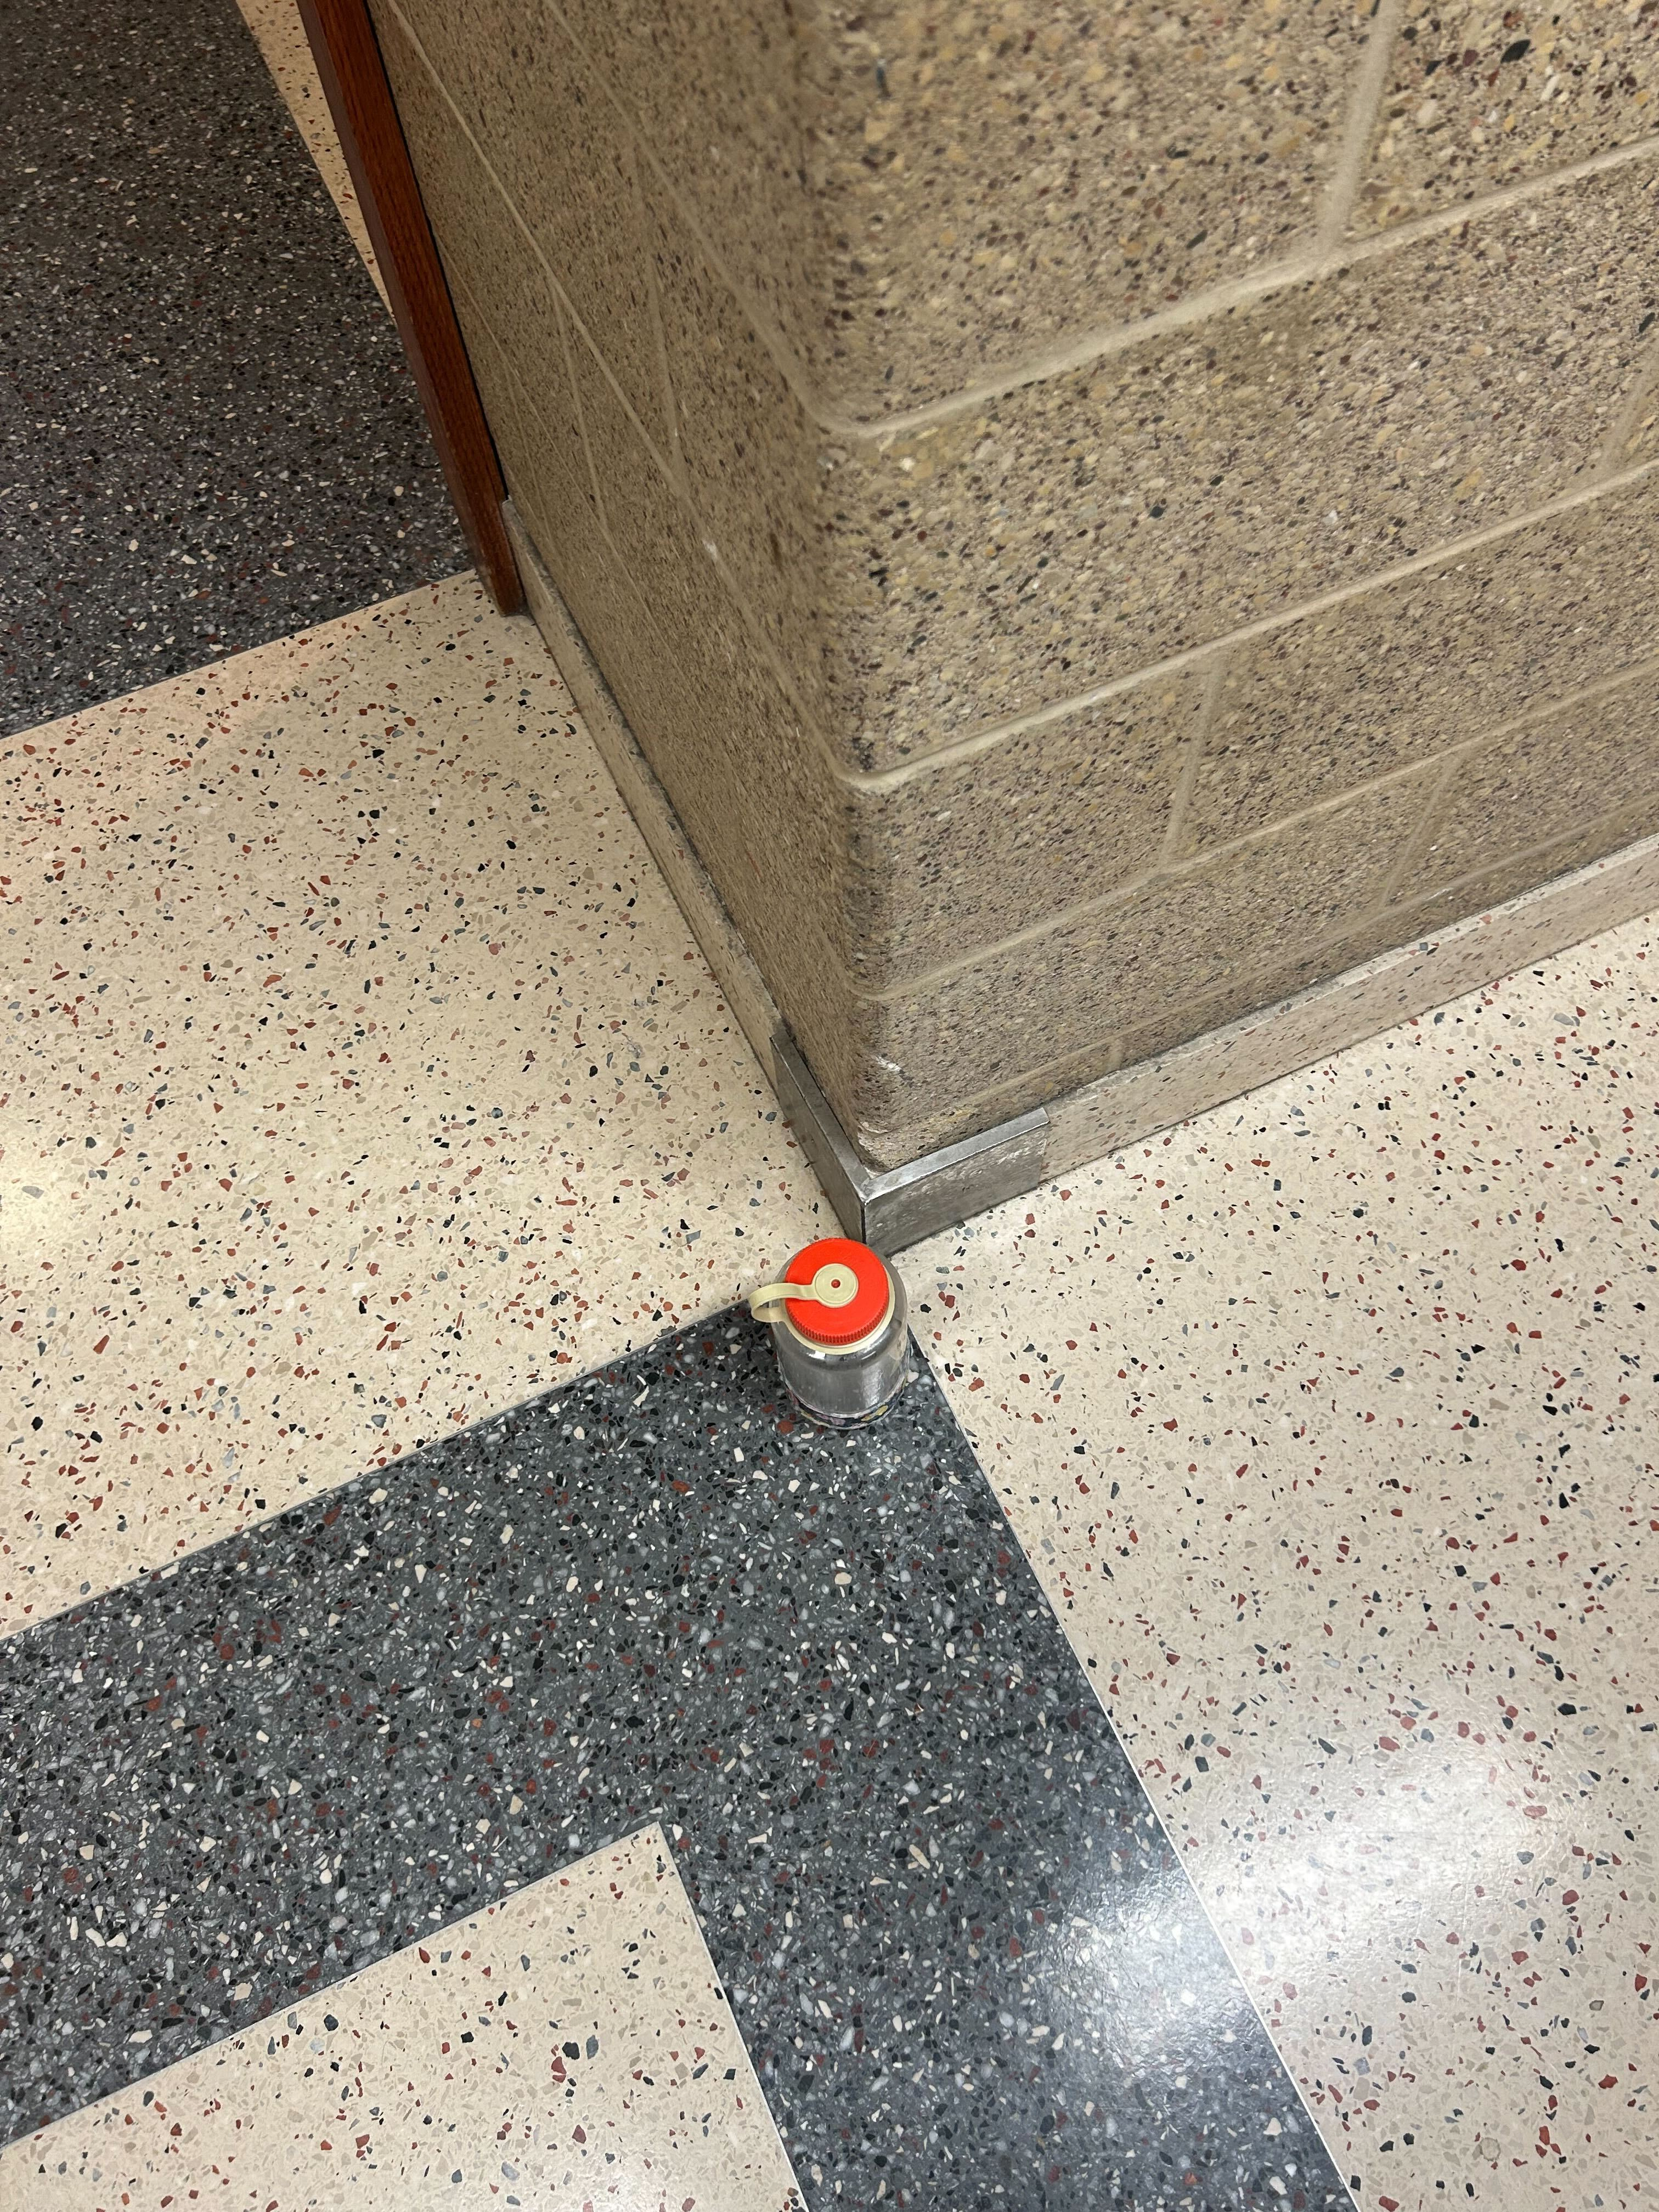bottle: (746, 1226, 911, 1430)
